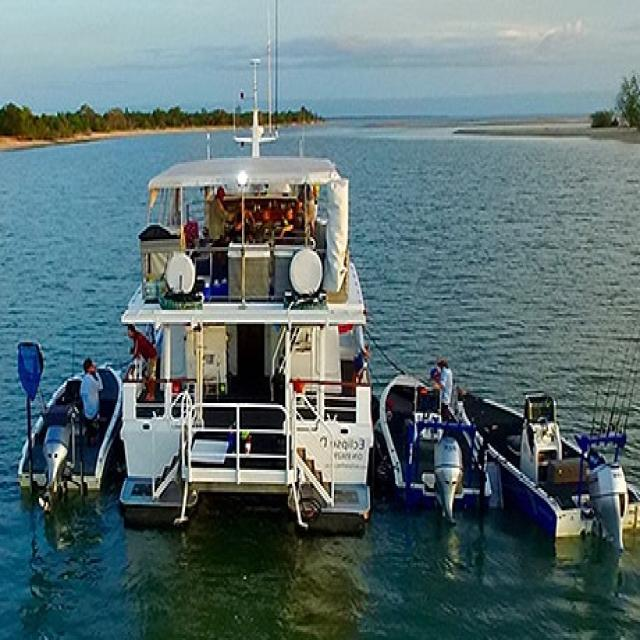passenger ship: (92, 98, 374, 566)
